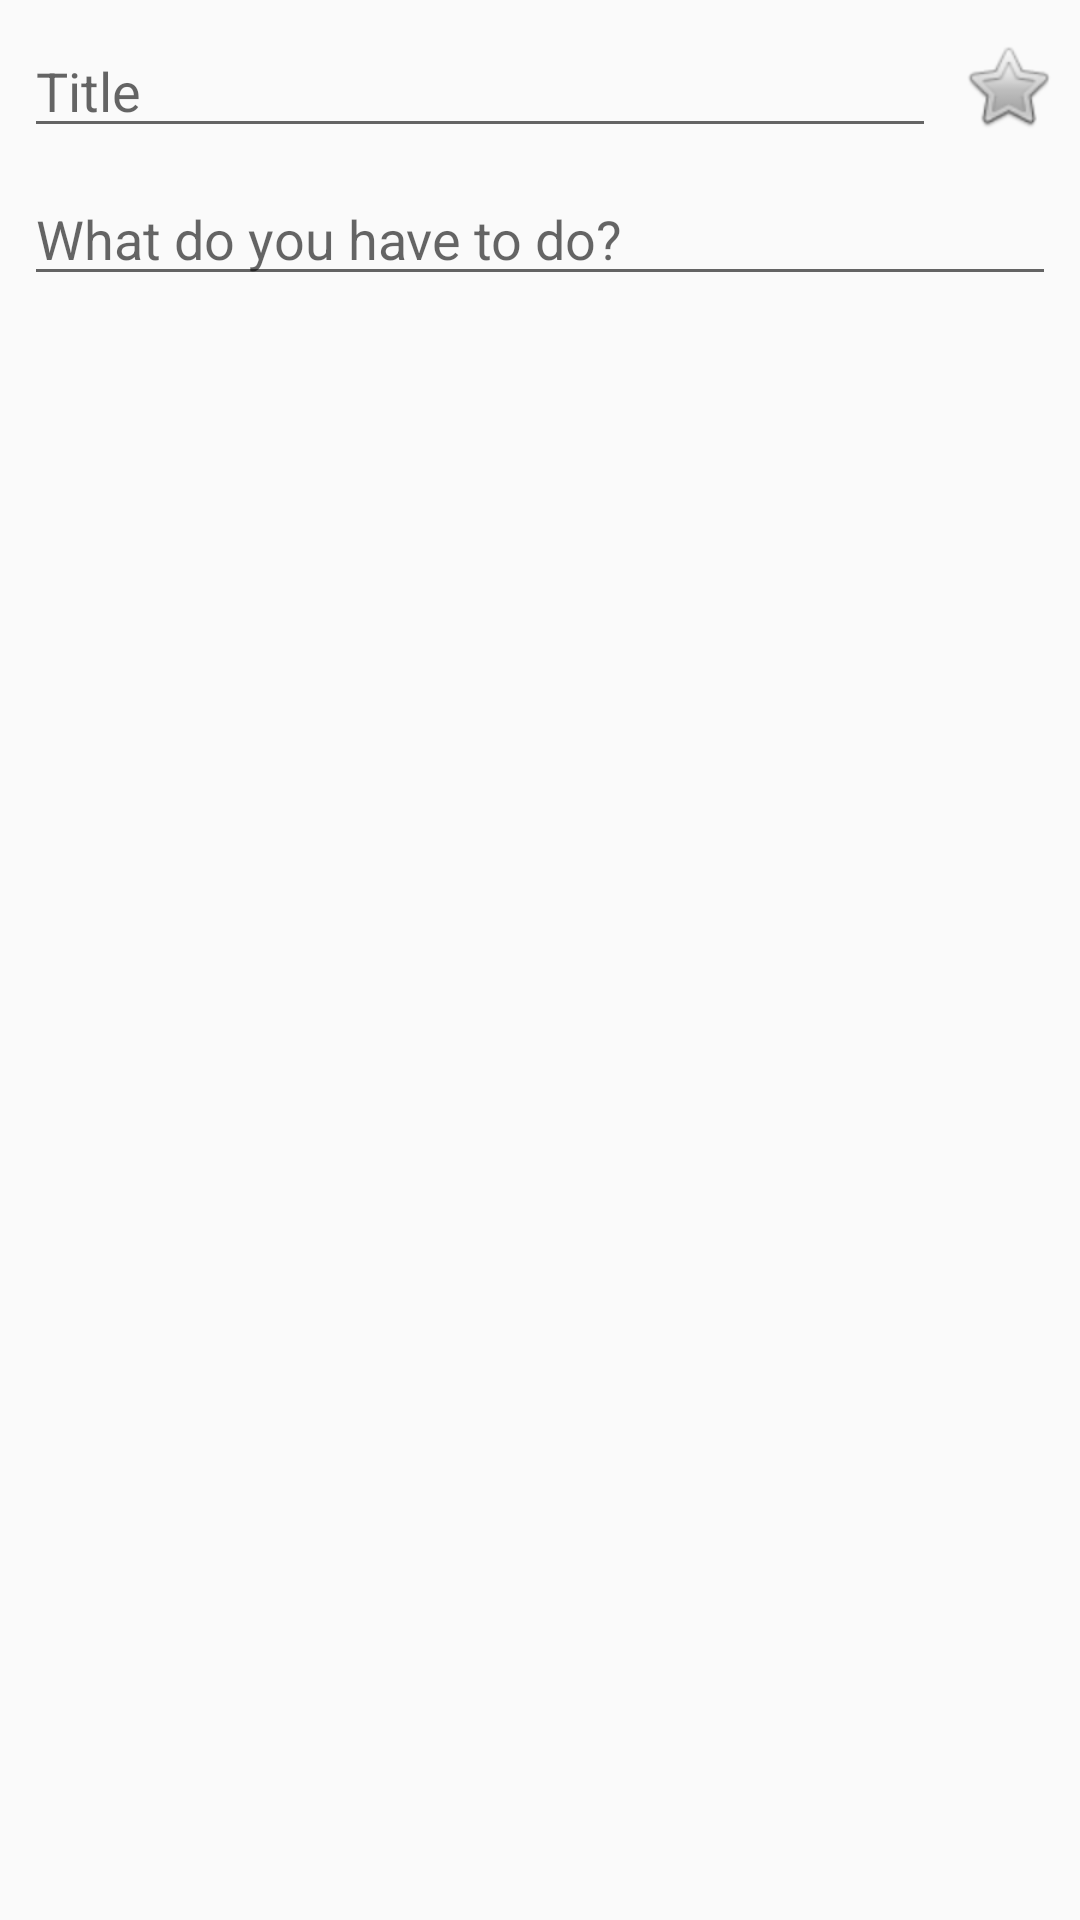

Icons on this 1080x1920 Android screen, each with the point to tap as (x=x, y=y):
star: (x=1009, y=87)
